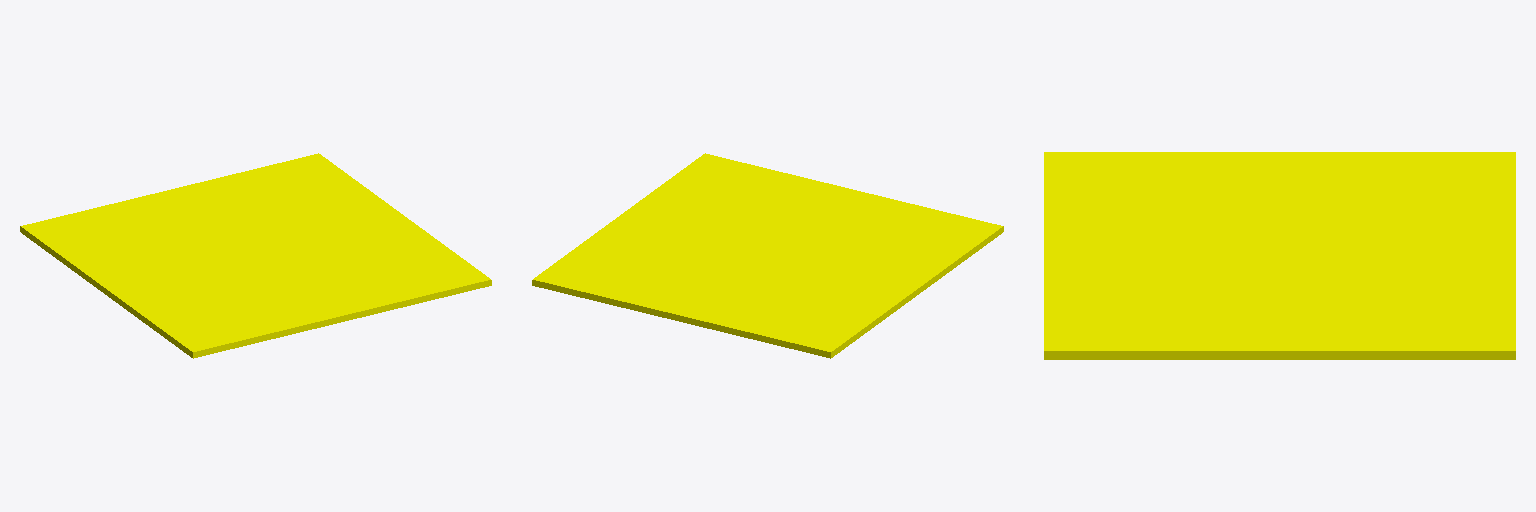
The robot description file, URDF, robot "square":
<?xml version="1.0"?>
<!-- created with Phobos 1.0.1 "Capricious Choutengan" -->
  <robot name="square">

    <link name="Untitled">
      <inertial>
        <origin xyz="0 0 0" rpy="0 0 0"/>
        <mass value="0.001"/>
        <inertia ixx="0.001" ixy="0" ixz="0" iyy="0.001" iyz="0" izz="0.001"/>
      </inertial>
      <visual name="Cube">
        <origin xyz="0 0 0" rpy="0 0 0"/>
        <geometry>
          <box size="0.50 0.50 0.01"/>
        </geometry>
        <material name="Material.002"/>
      </visual>
    </link>

    <material name="Material.002">
      <color rgba="1 1 0 1.0"/>
    </material>

  </robot>

--- Render facts (derived) ---
The picture shows the robot from 3 angles, left to right: view 1: azimuth 30°, elevation 25°; view 2: azimuth 150°, elevation 25°; view 3: azimuth 270°, elevation 25°; orthographic projection.
Model square with 1 links and 0 joints (none), rooted at Untitled, posed all joints at 0.
Visible links, largest first — view 1: Untitled; view 2: Untitled; view 3: Untitled.
Boxes of the visible links, x1,y1,x2,y2 form: Untitled: [20, 153, 491, 358]; Untitled: [532, 153, 1003, 358]; Untitled: [1044, 152, 1515, 359].
Bounding box of the posed robot: 0.5 × 0.5 × 0.01 m (x, y, z).
Geometry: primitives only (box / cylinder / sphere), no mesh files.